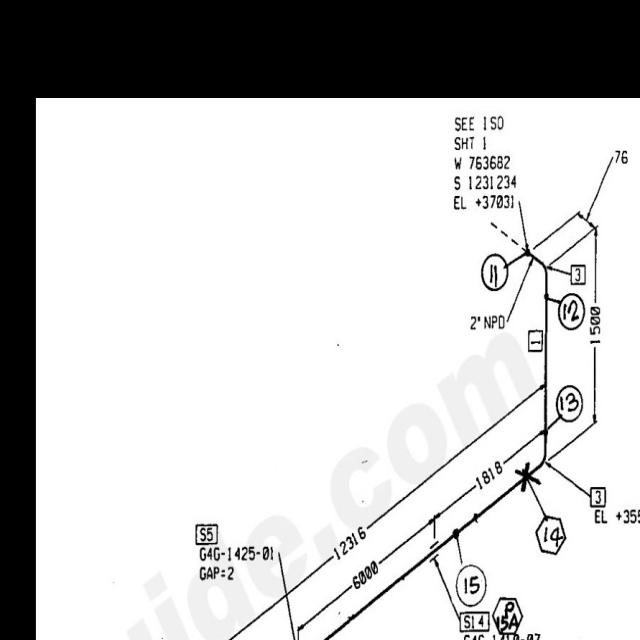Item number: (457, 608, 491, 635), (192, 520, 220, 547), (589, 484, 608, 510), (568, 261, 587, 287), (527, 327, 544, 355)
Measrement: (224, 390, 536, 637), (299, 510, 438, 629), (433, 415, 547, 534), (570, 132, 635, 233), (592, 219, 602, 352)
Pipeline: (312, 237, 554, 639)
Symbol: (514, 457, 547, 490), (428, 536, 443, 566)
Weld number: (452, 561, 489, 611), (531, 512, 569, 560), (490, 593, 525, 638), (479, 249, 512, 295), (553, 381, 587, 425), (554, 291, 587, 333)
other: (449, 111, 519, 214), (196, 542, 282, 584), (592, 506, 639, 527), (465, 313, 508, 334)
